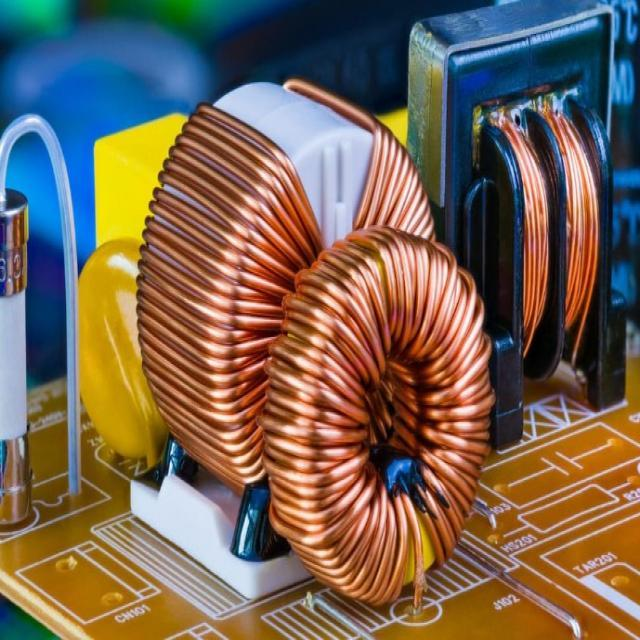Inductor: (138, 82, 378, 491), (259, 228, 494, 604)
